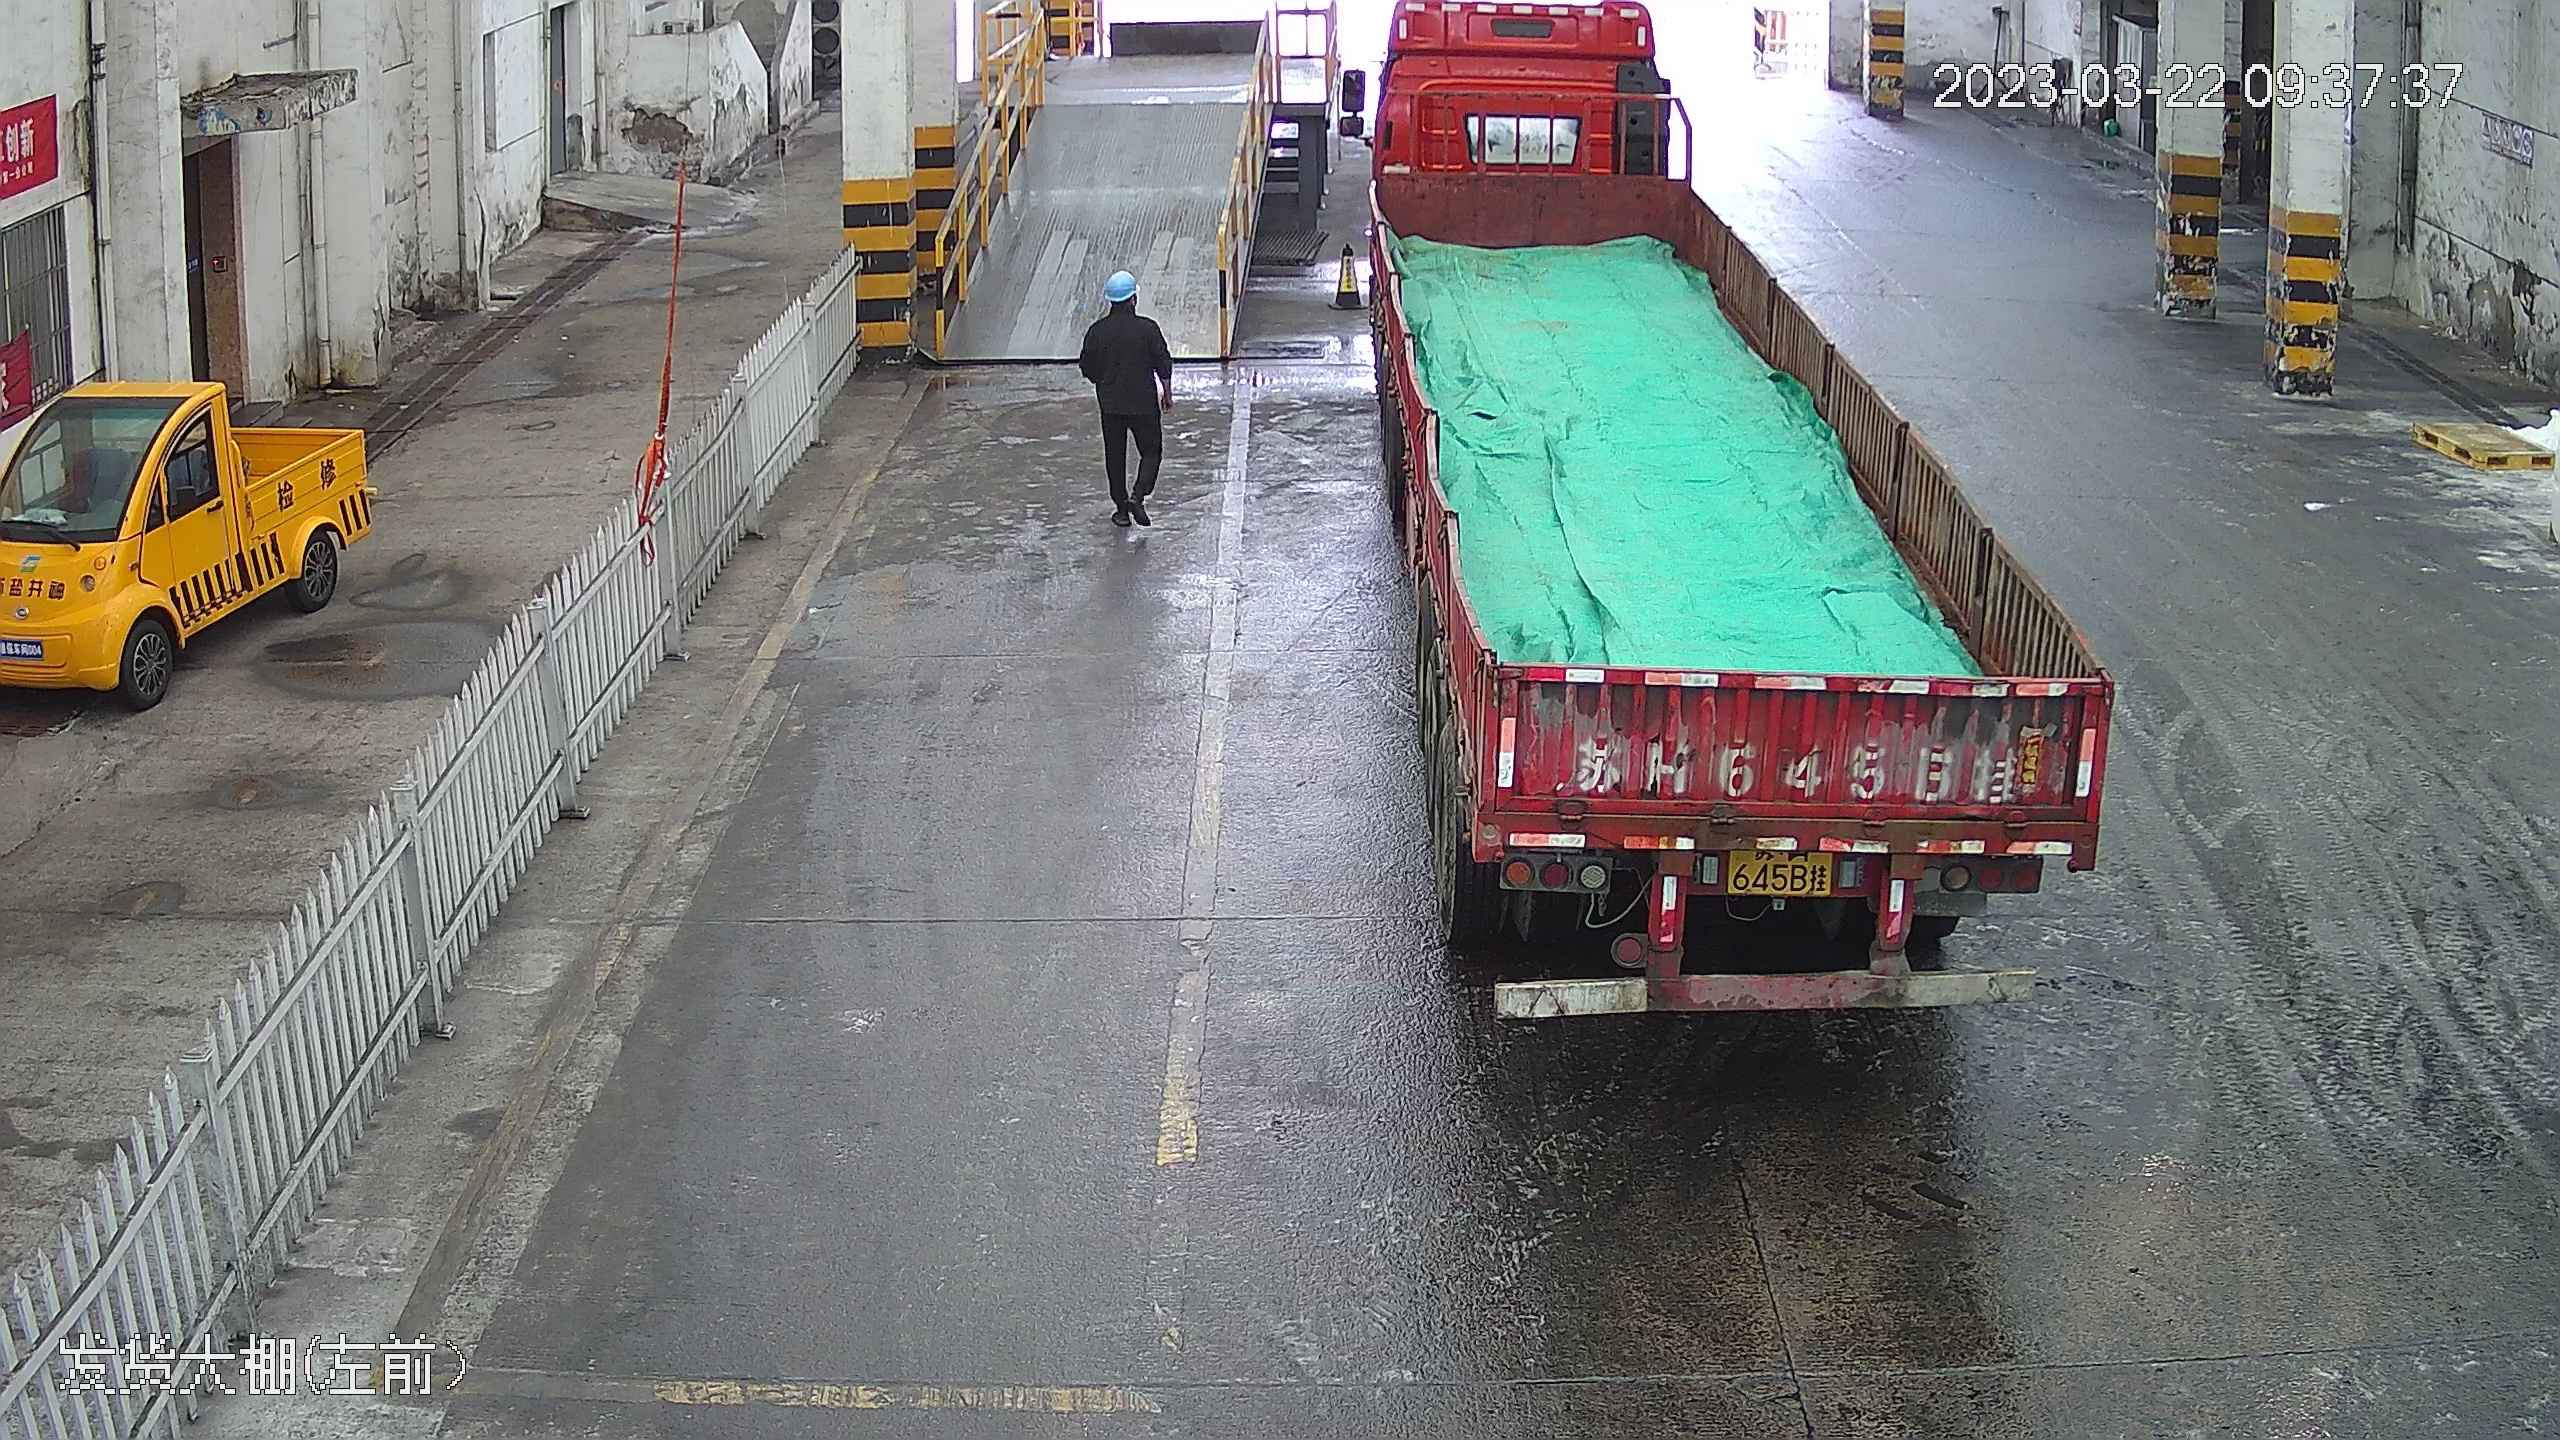head: (1088, 269, 1163, 342)
helmet: (1104, 269, 1140, 299)
people: (1080, 269, 1177, 535)
truck: (1343, 0, 2136, 1005)
